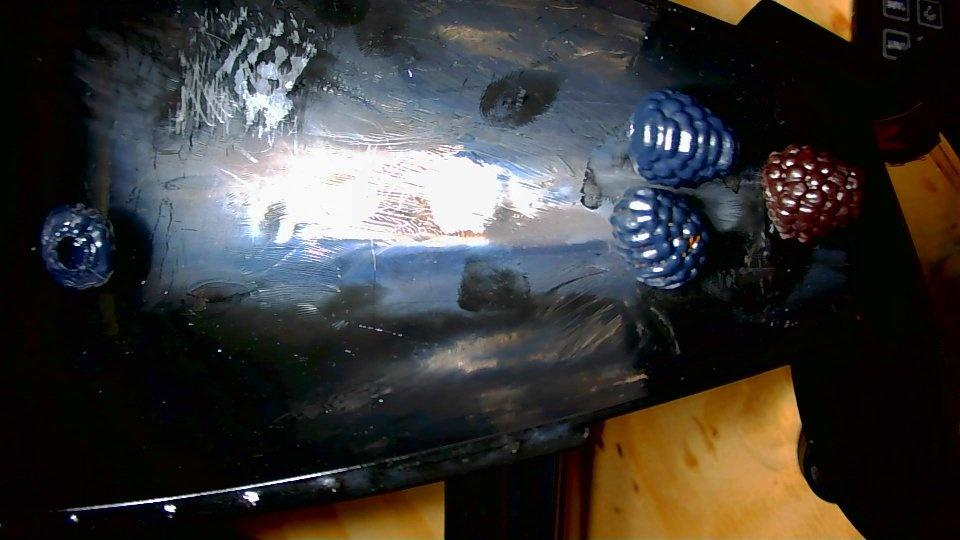berry: (627, 89, 738, 187), (610, 186, 708, 288), (761, 145, 862, 242), (39, 203, 115, 289)
